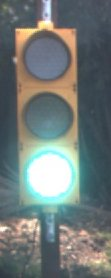Green: (8, 20, 83, 229)
